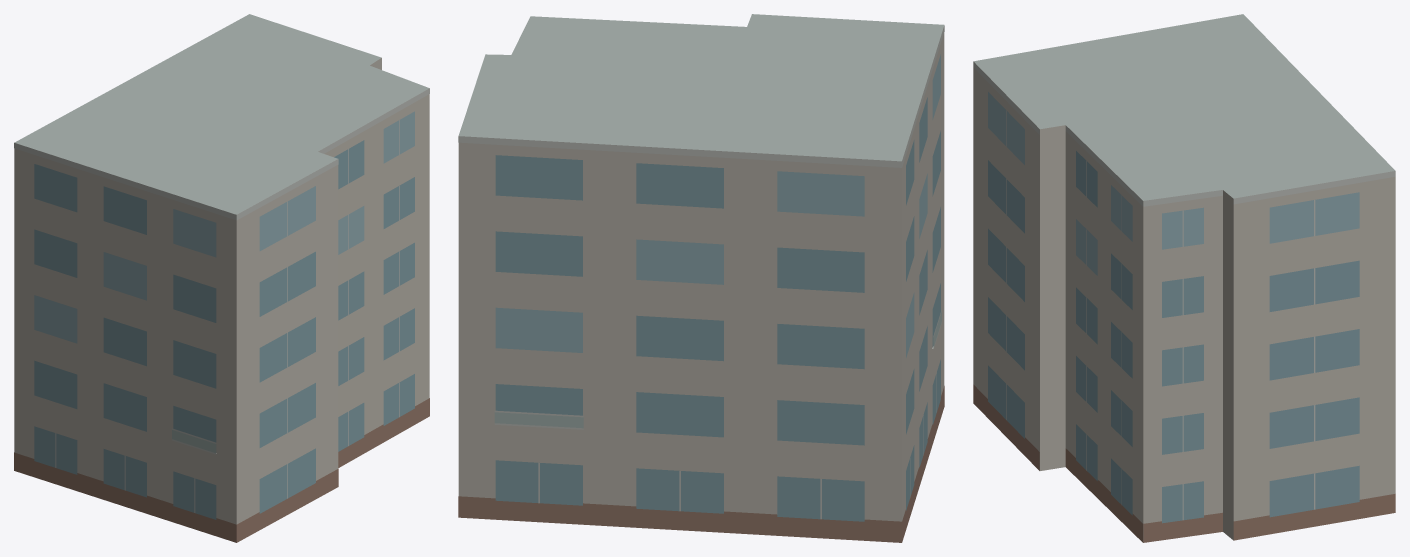
Rendered from survey-upis-32859601.glb.
3 views of the same model, side by side, from view 1: azimuth 30°, elevation 25°; view 2: azimuth 150°, elevation 25°; view 3: azimuth 270°, elevation 25° (orthographic). The views are drawn at different scales.
Parts seen in each view (by area): view 1: survey-upis-32859601.tmp; view 2: survey-upis-32859601.tmp; view 3: survey-upis-32859601.tmp.
Part boxes in pixels (<box>): survey-upis-32859601.tmp: <box>14,14,429,542</box>; survey-upis-32859601.tmp: <box>458,14,944,542</box>; survey-upis-32859601.tmp: <box>973,14,1395,542</box>.
Size of the model in its own units: 16.66 by 14.2 by 15.9.
